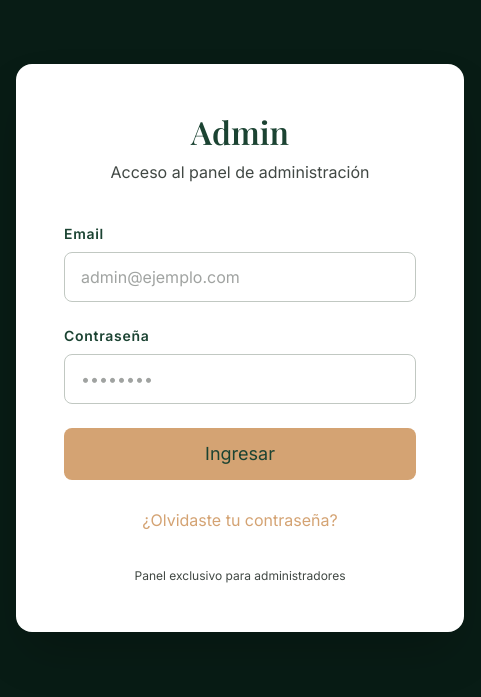
Test: LoginPage › Password reset › shows error when reset throws an exception
This screenshot has width=481, height=697.
Type "admin@test.com" into the field labelled "Email" at (240, 277), box [64, 252, 416, 302]
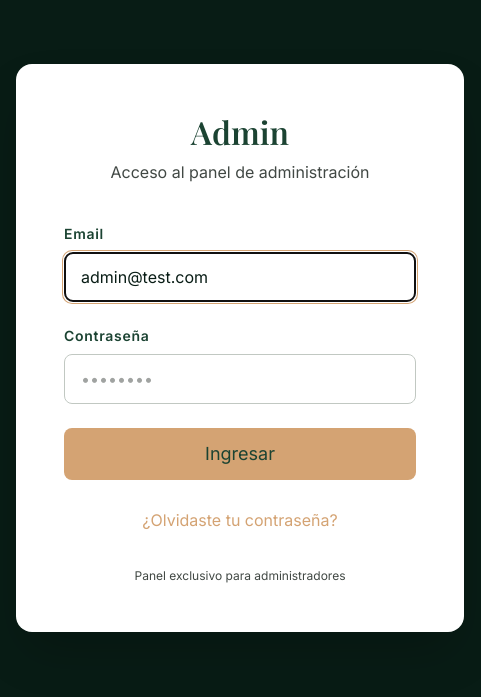
Click the button "¿Olvidaste tu contraseña?" at (240, 520), box [64, 496, 416, 544]
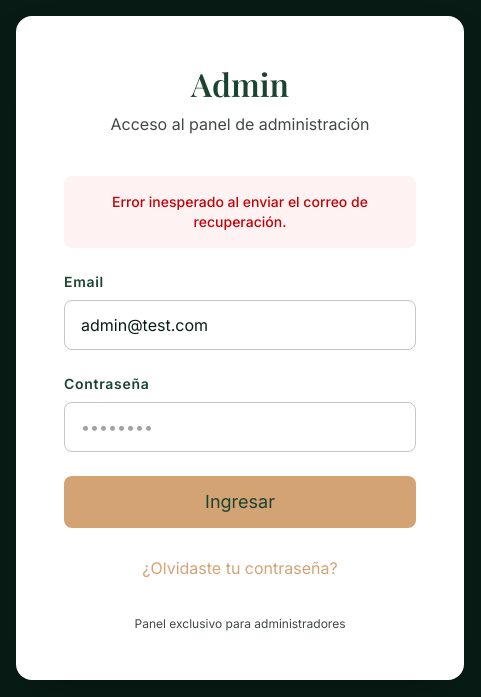
Now the text "Error inesperado al enviar el correo de recuperación." is shown, box [64, 176, 416, 248]
